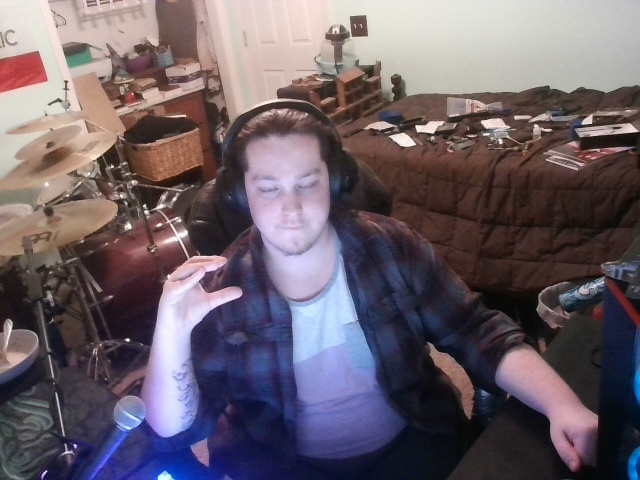drink: (145, 237, 258, 342)
